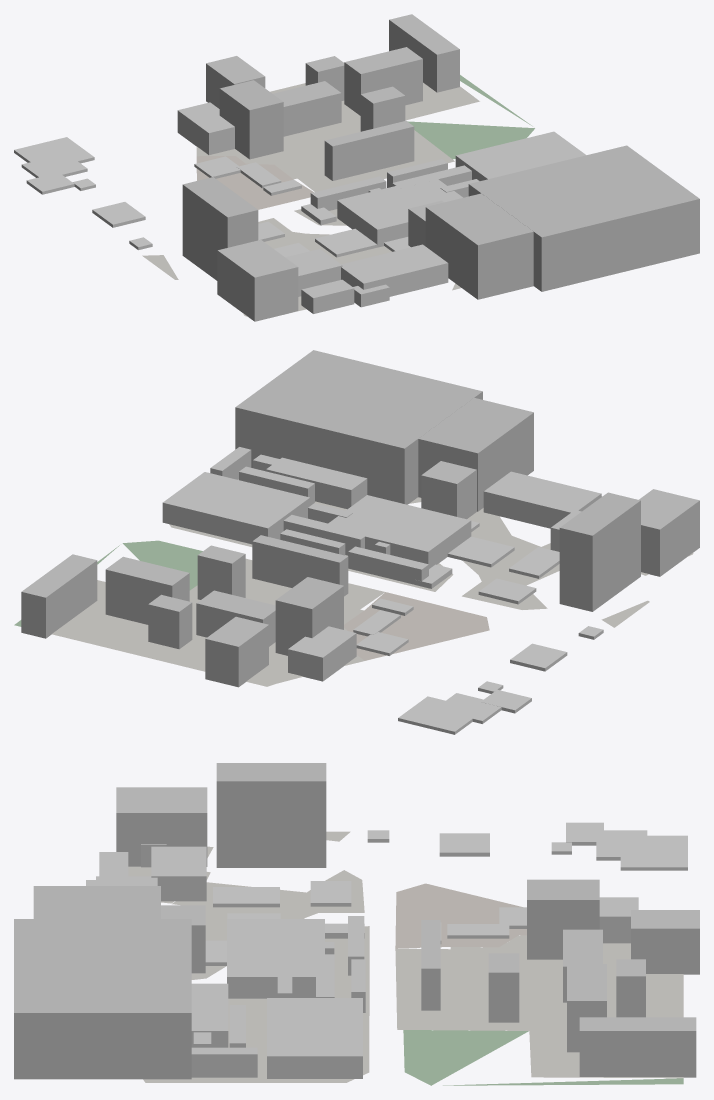
Rendered from 124_76_mid.glb.
The picture shows the model from 3 angles, top to bottom: view 1: azimuth 30°, elevation 25°; view 2: azimuth 150°, elevation 25°; view 3: azimuth 270°, elevation 25°; orthographic projection. The views are drawn at different scales.
Bounding box in the file's own units: 504 × 79.67 × 562.
